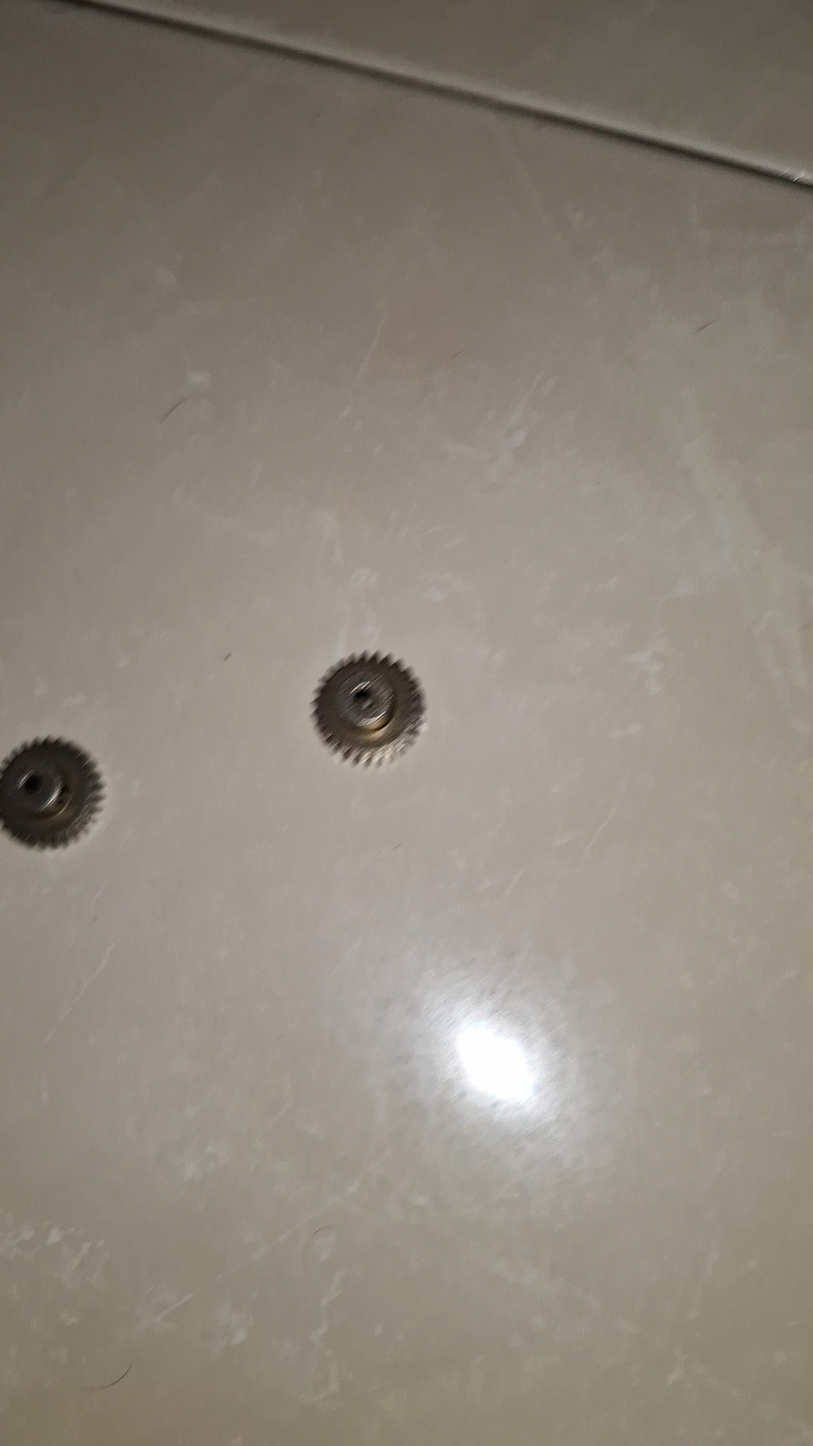spur gear: (313, 653, 425, 765), (0, 738, 103, 848)
